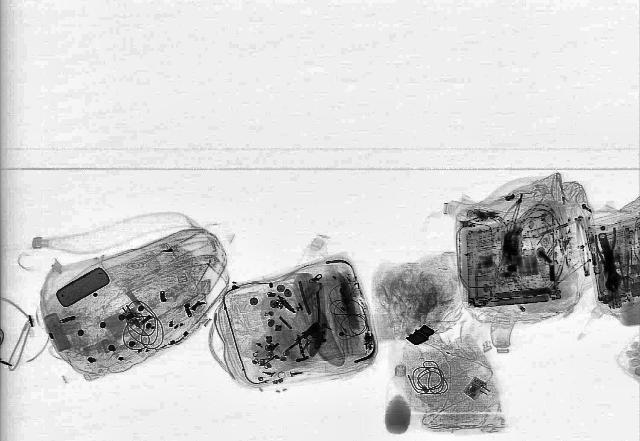Wrench: (590, 232, 626, 293)
